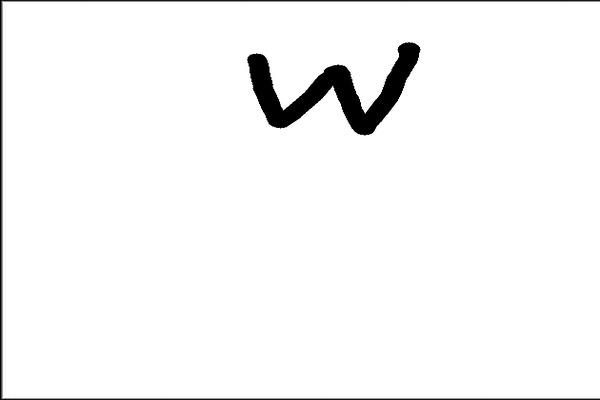w: (229, 25, 430, 145)
